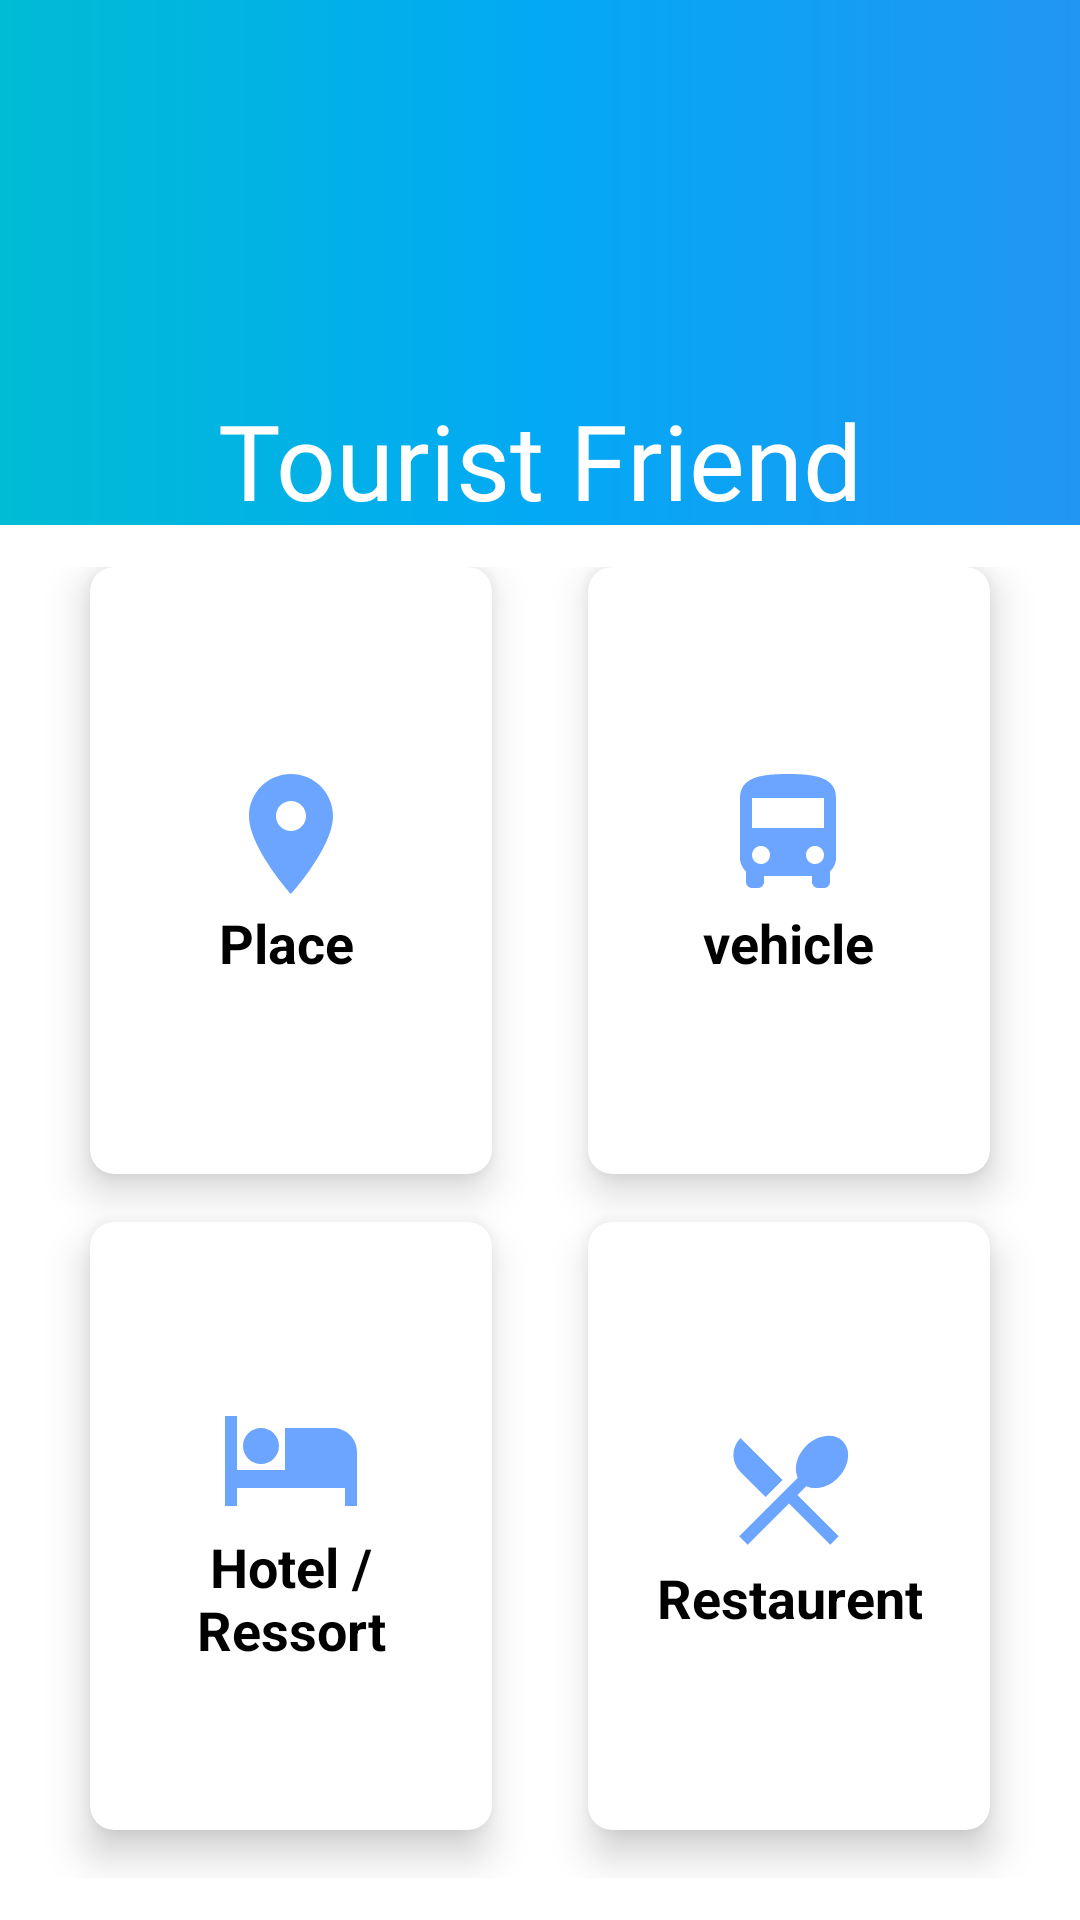

Named icons in this screenshot (1080*1920) and their centers, (x,y):
directions bus: (788,831)
restaurant menu: (790,1490)
